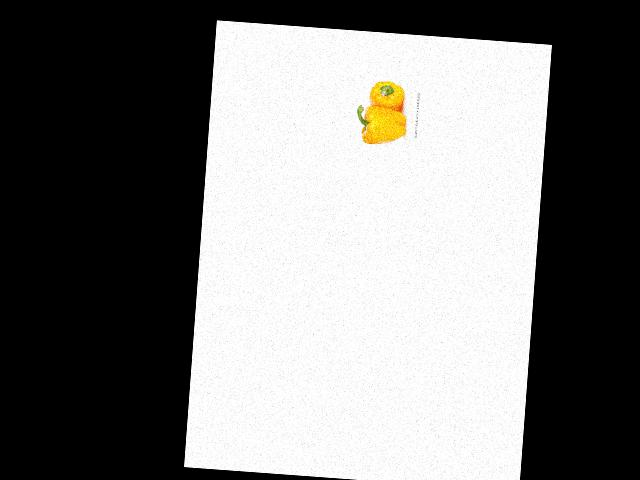bell_pepper: (366, 79, 407, 113)
